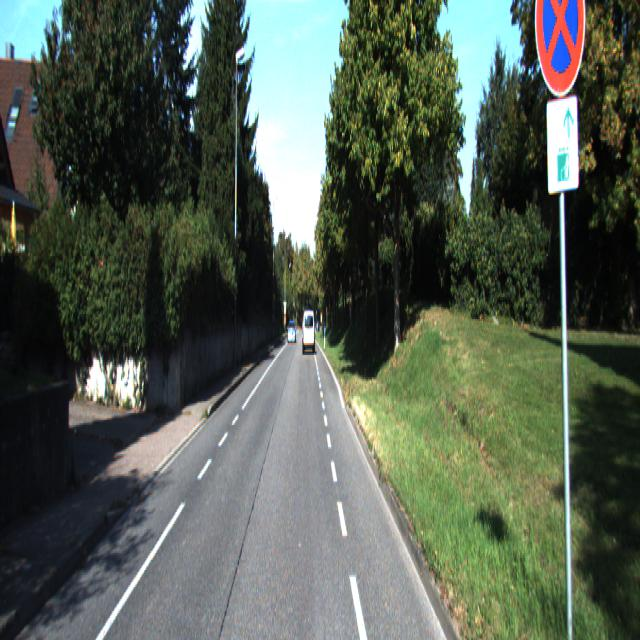Car: (302, 309, 316, 355), (287, 320, 296, 344)
